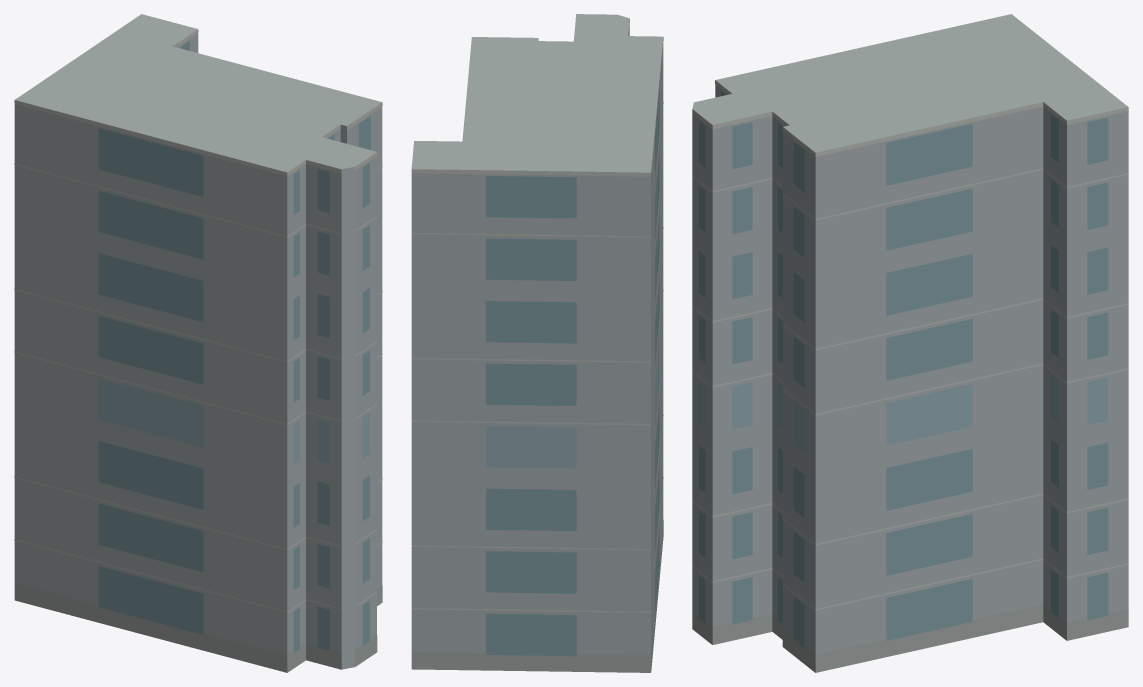
The model's file is survey-upis-32792733.glb.
3 renders of one model, left to right at view 1: azimuth 30°, elevation 25°; view 2: azimuth 150°, elevation 25°; view 3: azimuth 270°, elevation 25°, orthographic. The views are drawn at different scales.
Parts seen in each view (by area): view 1: survey-upis-32792733.tmp; view 2: survey-upis-32792733.tmp; view 3: survey-upis-32792733.tmp.
Part boxes in pixels (box(x1,y1,x2,y2)): survey-upis-32792733.tmp: box(14, 14, 382, 672); survey-upis-32792733.tmp: box(411, 14, 663, 672); survey-upis-32792733.tmp: box(692, 14, 1128, 672).
Bounding box in the file's own units: 17.02 × 29.7 × 22.6.
